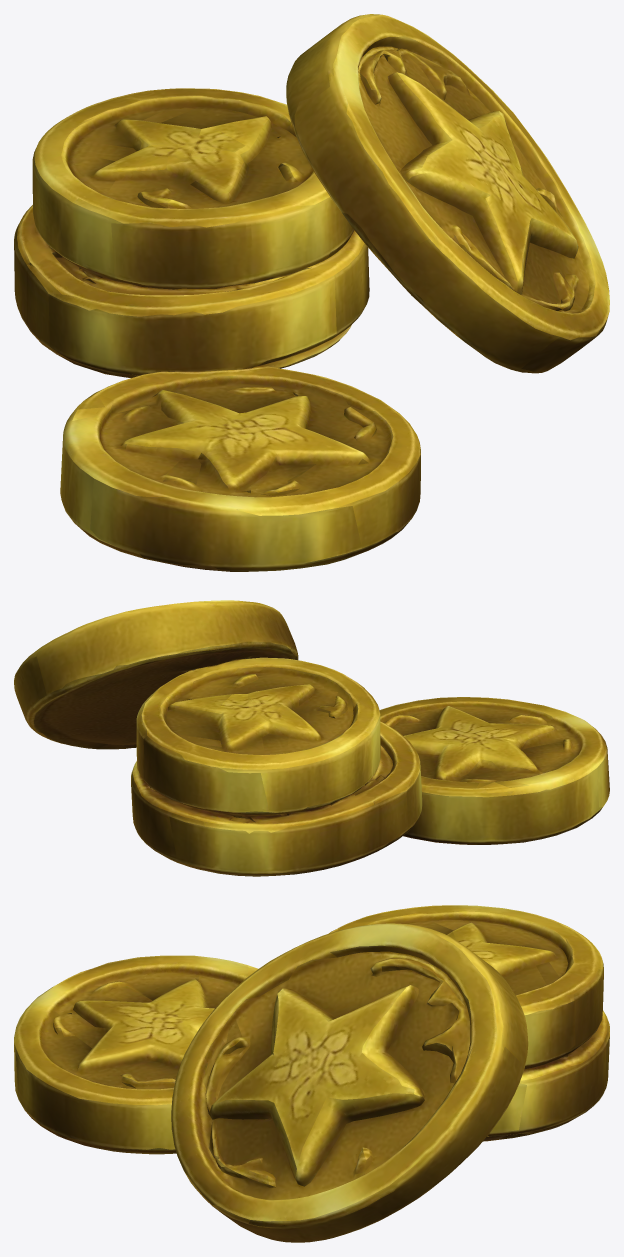
Rendered from coins.glb.
3 renders of one model, top to bottom at view 1: azimuth 30°, elevation 25°; view 2: azimuth 150°, elevation 25°; view 3: azimuth 270°, elevation 25°, orthographic. The views are drawn at different scales.
Parts seen in each view (by area): view 1: geometry_0; view 2: geometry_0; view 3: geometry_0.
Boxes of the visible parts, x1,y1,x2,y2 form: geometry_0: [14, 14, 609, 571]; geometry_0: [14, 600, 609, 876]; geometry_0: [14, 905, 609, 1242].
Size of the model in its own units: 0.03 by 0.0142 by 0.0285.
1 material, 1 textured.
